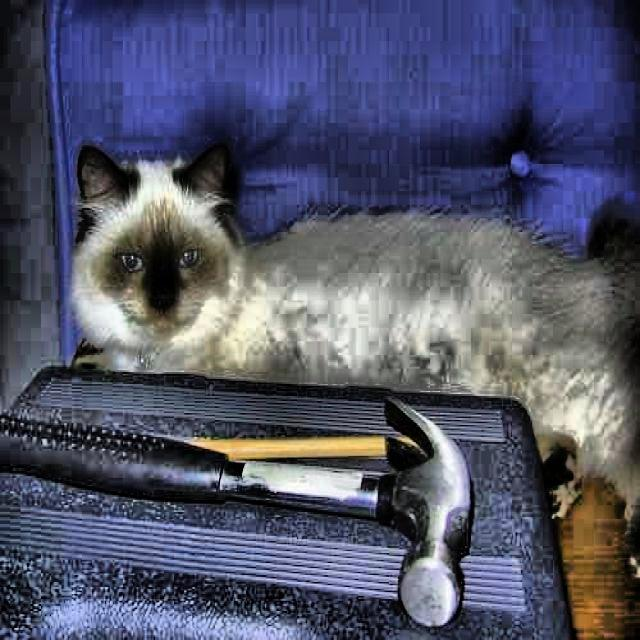hammer: (0, 395, 476, 629)
